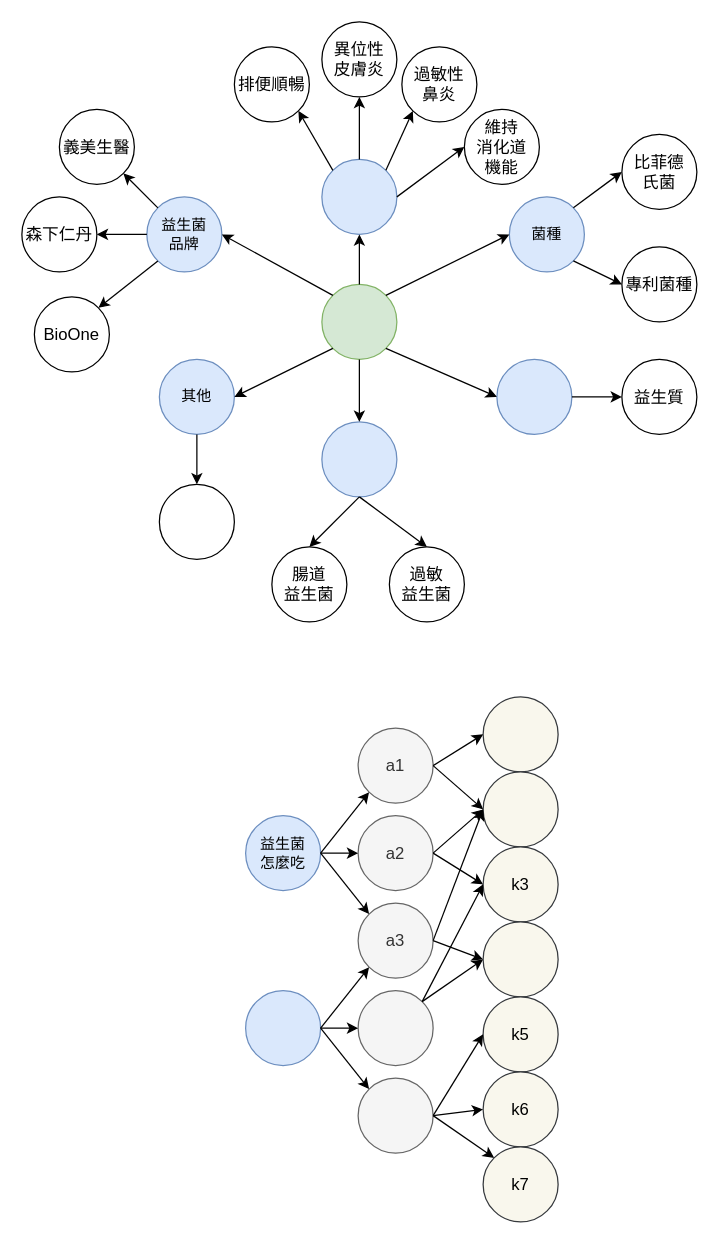
Image size: 719x1244. Some labels were removed from this diagram. Each missing label, with the box of its shape:
a4: (357, 989, 433, 1066)
a5: (357, 1077, 433, 1153)
k1: (482, 696, 558, 772)
k2: (482, 771, 558, 847)
k4: (482, 921, 558, 997)
功效: (321, 158, 397, 234)
益生菌: (321, 283, 397, 359)
益生菌 副作用: (244, 989, 321, 1066)
益生菌 比較: (496, 358, 572, 434)
益生菌 種類: (321, 421, 397, 497)
細菌 叢生態: (158, 483, 234, 559)
